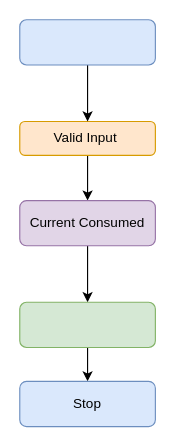
Some shapes in this 175 by 446 pixel diagram are drawn without their labels. Each missing label, with the centre of its shape:
Calculates Energy Consumed: pixel 87 324
Start: pixel 87 42
